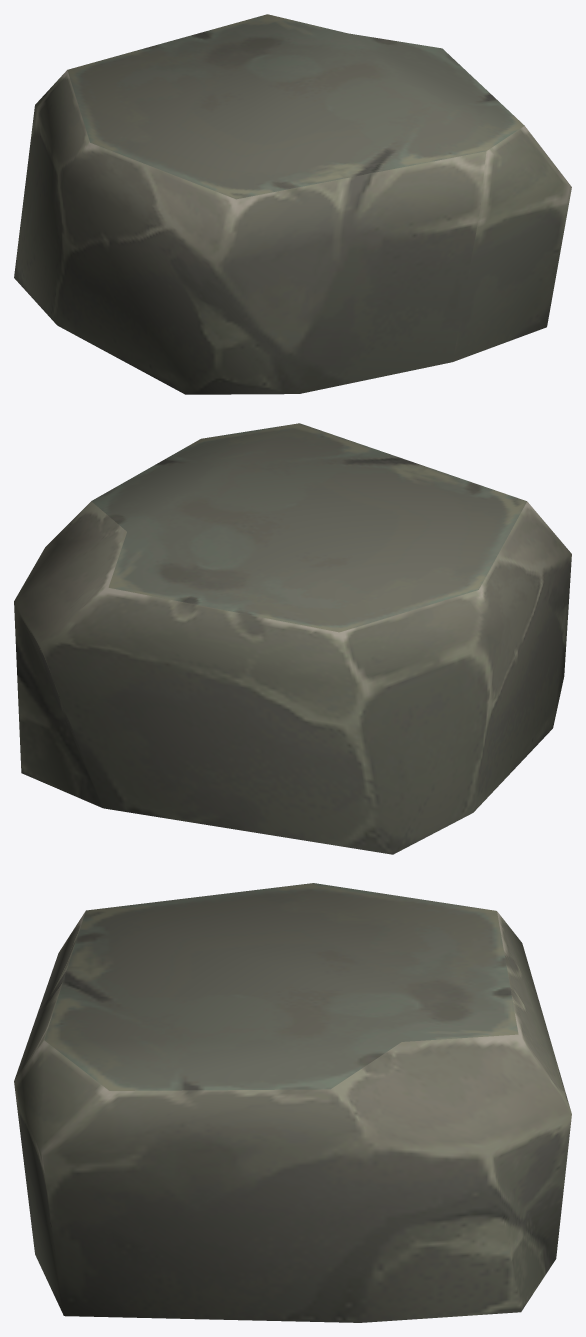
The model's file is yw_shanlin_stones_009.FBX.
3 views of the same model, one above another, from view 1: azimuth 30°, elevation 25°; view 2: azimuth 150°, elevation 25°; view 3: azimuth 270°, elevation 25° (orthographic). The views are drawn at different scales.
Visible parts, largest first — view 1: yw_shanlin_stones_009; view 2: yw_shanlin_stones_009; view 3: yw_shanlin_stones_009.
Boxes of the visible parts, left/top/right/bottom form: yw_shanlin_stones_009: left=14, top=14, right=571, bottom=394; yw_shanlin_stones_009: left=14, top=423, right=571, bottom=854; yw_shanlin_stones_009: left=14, top=883, right=571, bottom=1322.
Bounding box in the file's own units: 86.85 × 87.59 × 42.09.
